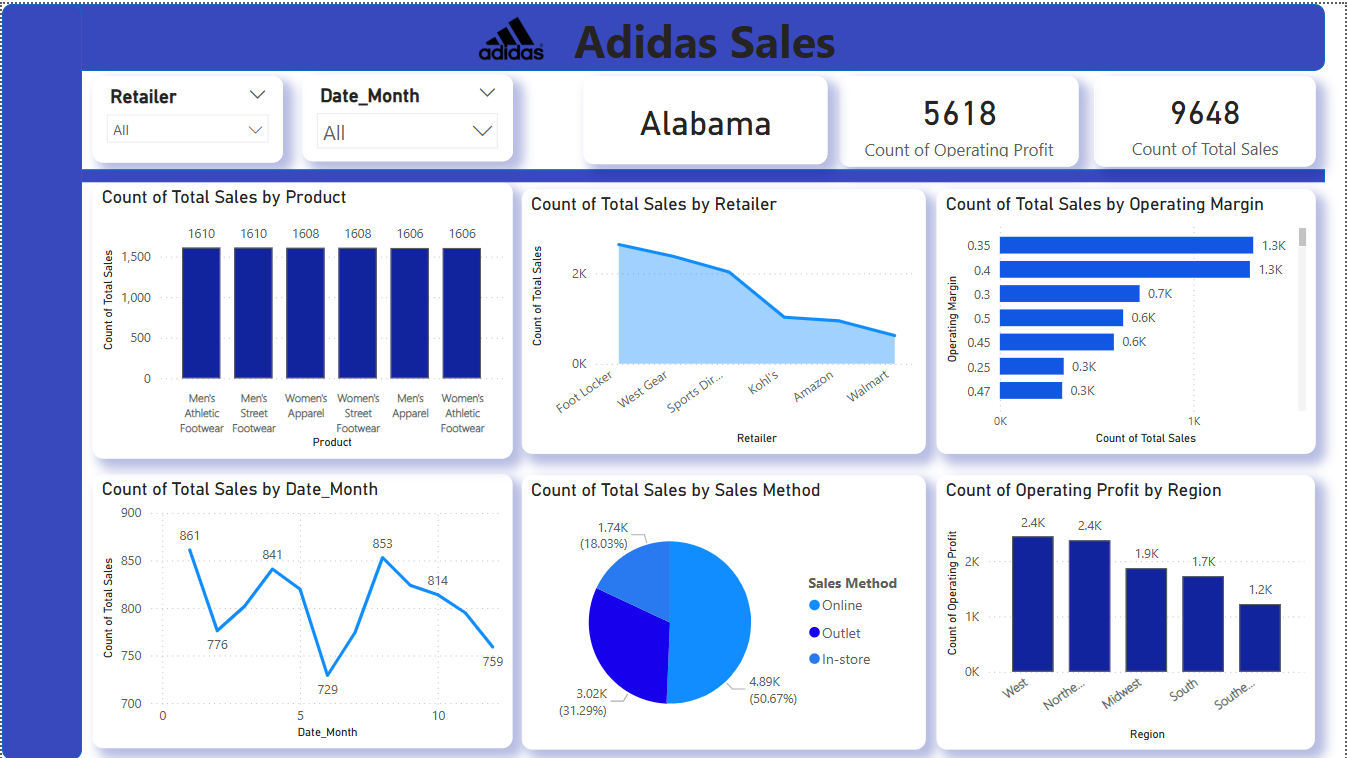

The page's visual inventory and layout, read from the dashboard file:
{"tool":"powerbi","page":{"name":"Page 1","canvas":[1280,720],"ordinal":0},"visuals":[{"type":"shape","box":[0,0,1260,63.8],"z":0},{"type":"lineChart","fields":{"Category":["Data Sales Adidas.Date_Month"],"Y":["CountNonNull(Data Sales Adidas.Total Sales)"]},"box":[86.2,447.5,400,261.2],"z":1000},{"type":"slicer","fields":{"Values":["Data Sales Adidas.Retailer"]},"box":[86.2,68.8,181.2,82.5],"z":2000},{"type":"clusteredColumnChart","fields":{"Category":["Data Sales Adidas.Product"],"Y":["CountNonNull(Data Sales Adidas.Total Sales)"]},"box":[86.2,170,400,262.5],"z":4000},{"type":"stackedAreaChart","fields":{"Category":["Data Sales Adidas.Retailer"],"Y":["CountNonNull(Data Sales Adidas.Total Sales)"]},"box":[495,176.2,385,252.5],"z":5000},{"type":"pieChart","fields":{"Category":["Data Sales Adidas.Sales Method"],"Y":["CountNonNull(Data Sales Adidas.Total Sales)"]},"box":[495,448.8,385,261.2],"z":6000},{"type":"slicer","fields":{"Values":["Data Sales Adidas.Date_Month"]},"box":[286.2,67.5,200,82.5],"z":7000},{"type":"columnChart","fields":{"Category":["Data Sales Adidas.Region"],"Y":["CountNonNull(Data Sales Adidas.Operating Profit)"]},"box":[890,448.8,360,261.2],"z":8000},{"type":"card","fields":{"Values":["Count(Data Sales Adidas.Operating Profit)"]},"box":[797.5,68.8,227.5,86.2],"z":9000},{"type":"barChart","fields":{"Y":["CountNonNull(Data Sales Adidas.Total Sales)"],"Category":["Data Sales Adidas.Operating Margin"]},"box":[890,176.2,361.2,252.5],"z":10000},{"type":"textbox","box":[357.5,0,623.8,67.5],"z":11000},{"type":"shape","box":[0,157.5,1260,12.5],"z":13000},{"type":"shape","box":[0,0,76.2,720],"z":14000},{"type":"card","fields":{"Values":["CountNonNull(Data Sales Adidas.Total Sales)"]},"box":[1040,68.8,211.2,86.2],"z":14001},{"type":"image","box":[373.8,0,223.8,63.8],"z":14002},{"type":"card","fields":{"Values":["Min(Data Sales Adidas.State)"]},"box":[553.8,68.8,232.5,83.8],"z":14003}]}

Visuals, with their boxes in screenshot pixels (x1, y1, x2, y2), scaled from the page's 1280x720 canvas onto the 1347x758 screenshot:
shape: box=[0, 0, 1326, 67]
lineChart - Data Sales Adidas.Date_Month x CountNonNull(Data Sales Adidas.Total Sales): box=[91, 471, 512, 746]
slicer - Data Sales Adidas.Retailer: box=[91, 72, 281, 159]
clusteredColumnChart - Data Sales Adidas.Product x CountNonNull(Data Sales Adidas.Total Sales): box=[91, 179, 512, 455]
stackedAreaChart - Data Sales Adidas.Retailer x CountNonNull(Data Sales Adidas.Total Sales): box=[521, 185, 926, 451]
pieChart - Data Sales Adidas.Sales Method x CountNonNull(Data Sales Adidas.Total Sales): box=[521, 472, 926, 747]
slicer - Data Sales Adidas.Date_Month: box=[301, 71, 512, 158]
columnChart - Data Sales Adidas.Region x CountNonNull(Data Sales Adidas.Operating Profit): box=[937, 472, 1315, 747]
card - Count(Data Sales Adidas.Operating Profit): box=[839, 72, 1079, 163]
barChart - CountNonNull(Data Sales Adidas.Total Sales) x Data Sales Adidas.Operating Margin: box=[937, 185, 1317, 451]
textbox: box=[376, 0, 1033, 71]
shape: box=[0, 166, 1326, 179]
shape: box=[0, 0, 80, 757]
card - CountNonNull(Data Sales Adidas.Total Sales): box=[1094, 72, 1317, 163]
image: box=[393, 0, 629, 67]
card - Min(Data Sales Adidas.State): box=[583, 72, 827, 161]
